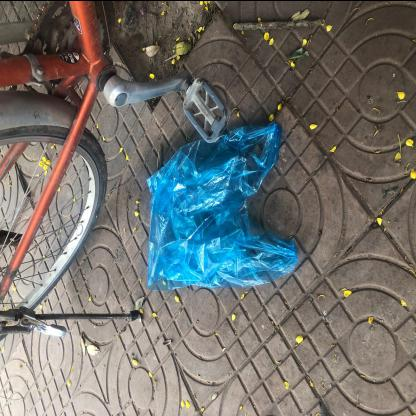plastik: (125, 145, 297, 299)
